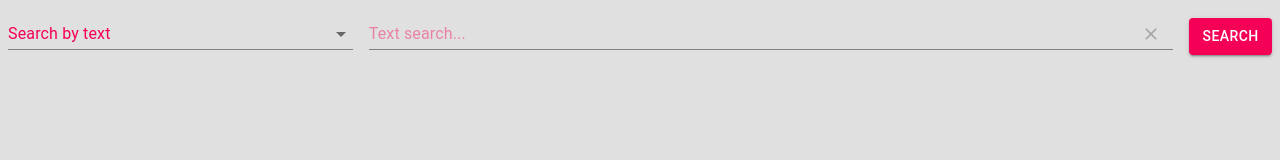
Test input TextField  serachText › empty field, should render required label
Expected: the text "required" is not shown
Click the button "Search".
click(1231, 36)  # box [1189,18,1272,54]
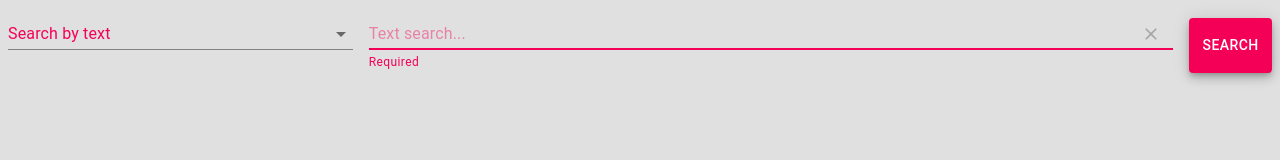
Now the text "Required" is shown, box [369,55,419,69]
